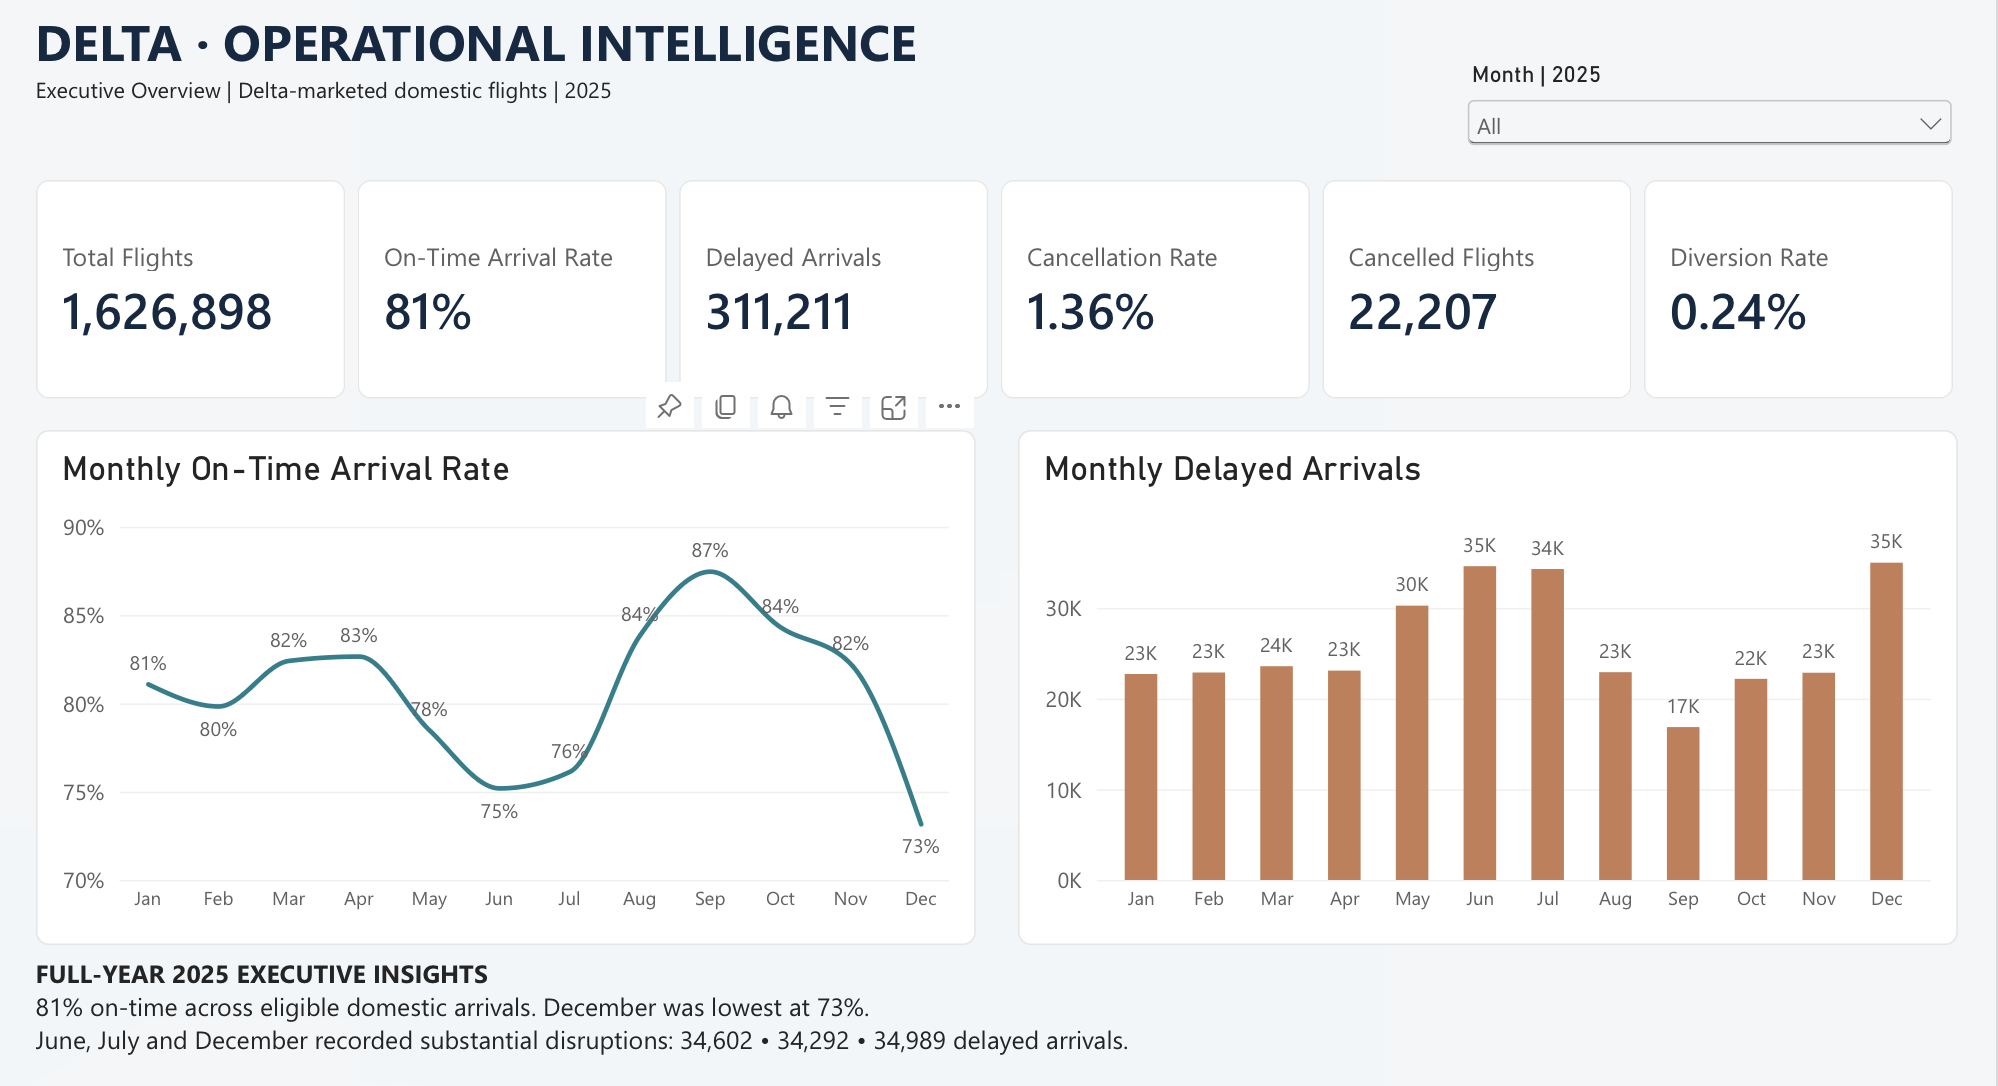

Layout of this report page (visuals, bound fields, positions):
{"tool":"powerbi","page":{"name":"01 — Executive Overview","canvas":[1280,720],"ordinal":0},"visuals":[{"type":"cardVisual","fields":{"Data":["tblAirportMonthlyOperations.Total Flights","tblMonthlyOperations.On-Time Arrival Rate %","tblMonthlyOperations.Delayed Arrivals","tblMonthlyOperations.Cancellation Rate %","tblMonthlyOperations.Cancelled Flights","tblMonthlyOperations.Diversion Rate %"]},"box":[24,130,1232,140],"z":0},{"type":"lineChart","title":"Monthly On-Time Arrival Rate","fields":{"Category":["DimMonth.month_start"],"Y":["tblMonthlyOperations.On-Time Arrival Rate %"]},"box":[24,290,602,330],"z":1000},{"type":"clusteredColumnChart","title":"Monthly Delayed Arrivals","fields":{"Category":["DimMonth.month_start"],"Y":["tblMonthlyOperations.Delayed Arrivals"]},"box":[654,290,602,330],"z":2000},{"type":"slicer","fields":{"Values":["DimMonth.month_start.Variation.Date Hierarchy.Month"]},"box":[936,55,320,55],"z":3000},{"type":"textbox","box":[24,18,880,100],"z":4000},{"type":"textbox","box":[24,626,1180,90],"z":5000}]}

Visuals, with their boxes on the page's 1280x720 design canvas (x1, y1, x2, y2). These are canvas units, not pixel positions in the 1998x1086 screenshot, which may show the page scaled, cropped or inside an application window:
cardVisual - tblAirportMonthlyOperations.Total Flights x tblMonthlyOperations.On-Time Arrival Rate %: {"x1": 24, "y1": 130, "x2": 1256, "y2": 270}
"Monthly On-Time Arrival Rate" lineChart: {"x1": 24, "y1": 290, "x2": 626, "y2": 620}
"Monthly Delayed Arrivals" clusteredColumnChart: {"x1": 654, "y1": 290, "x2": 1256, "y2": 620}
slicer - DimMonth.month_start.Variation.Date Hierarchy.Month: {"x1": 936, "y1": 55, "x2": 1256, "y2": 110}
textbox: {"x1": 24, "y1": 18, "x2": 904, "y2": 118}
textbox: {"x1": 24, "y1": 626, "x2": 1204, "y2": 716}
